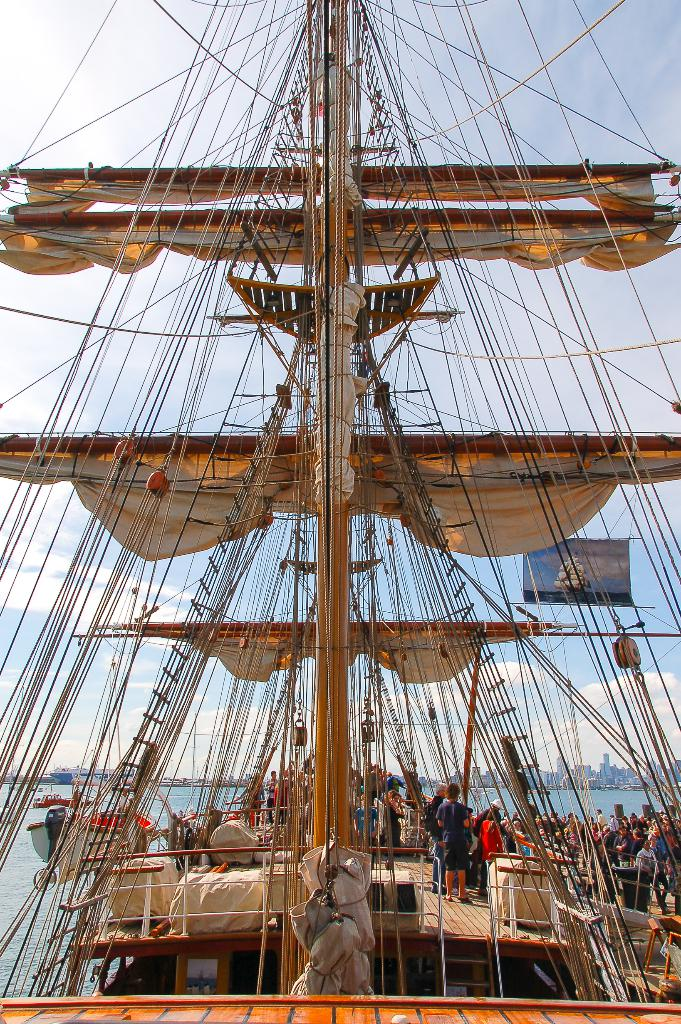Person: (248, 753, 680, 918)
